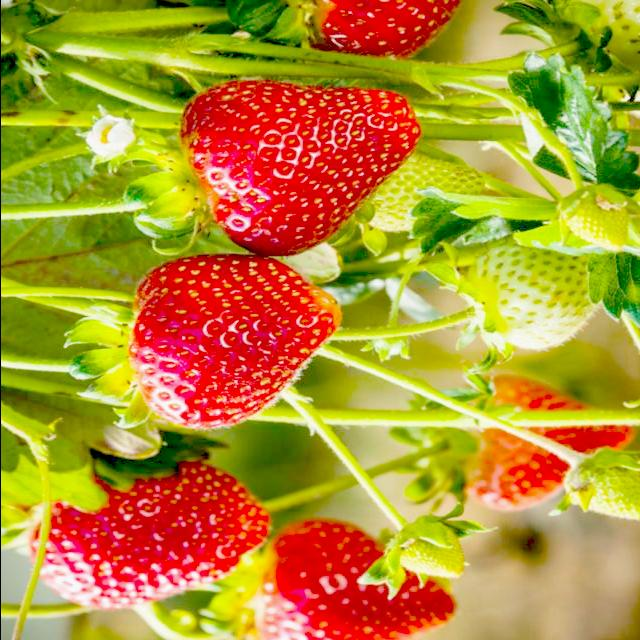ripe: (172, 71, 426, 256), (120, 250, 344, 432), (23, 450, 277, 609), (248, 499, 456, 640), (466, 368, 638, 520), (294, 0, 469, 69)
unripe: (457, 234, 607, 354), (360, 142, 480, 235), (534, 1, 640, 72), (554, 176, 636, 262), (558, 438, 640, 520), (374, 522, 471, 590)
